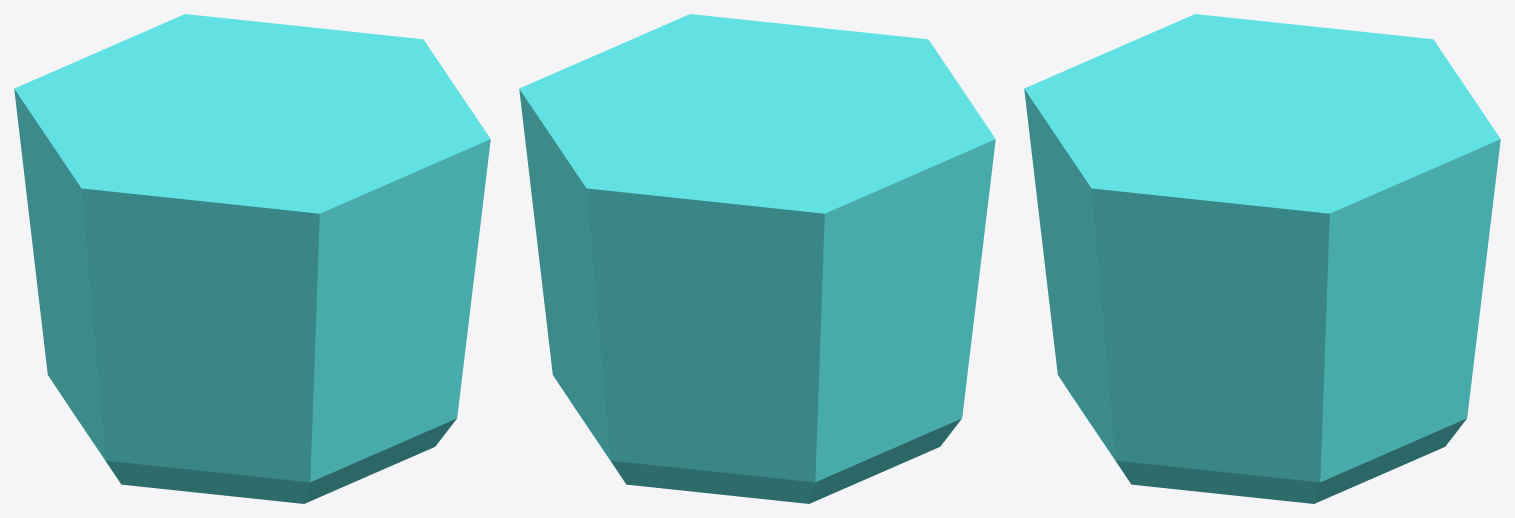
The model's file is 003_Large_Potion_Liquid-Model.fbx.
The picture shows the model from 3 angles, left to right: view 1: azimuth 30°, elevation 25°; view 2: azimuth 150°, elevation 25°; view 3: azimuth 270°, elevation 25°; orthographic projection.
Visible parts, largest first — view 1: Potion_Liquid1; view 2: Potion_Liquid1; view 3: Potion_Liquid1.
Part boxes in pixels (<box>): Potion_Liquid1: <box>14,14,490,503</box>; Potion_Liquid1: <box>519,14,995,503</box>; Potion_Liquid1: <box>1024,14,1500,503</box>.
Bounding box in the file's own units: 0.6884 × 0.504 × 0.6943.
